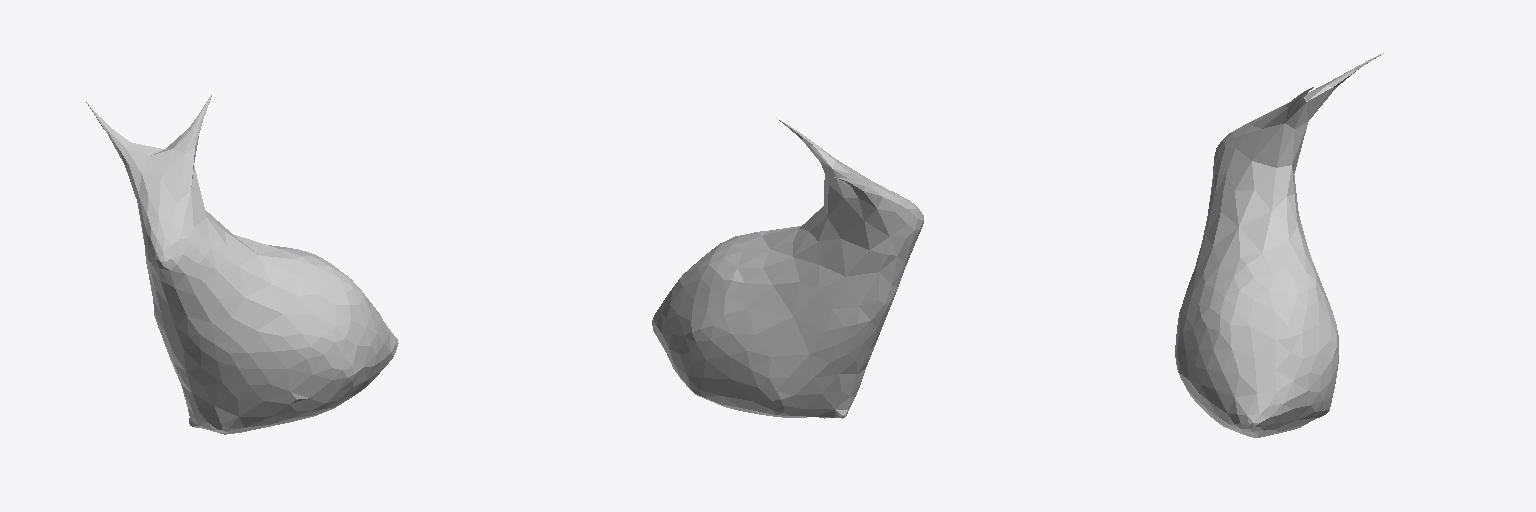
File: bunny_tiny_smoothed_10_smoothed_80.obj
3 renders of one model, left to right at view 1: azimuth 30°, elevation 25°; view 2: azimuth 150°, elevation 25°; view 3: azimuth 270°, elevation 25°, orthographic.
Size of the model in its own units: 6.51 by 7.61 by 4.61.